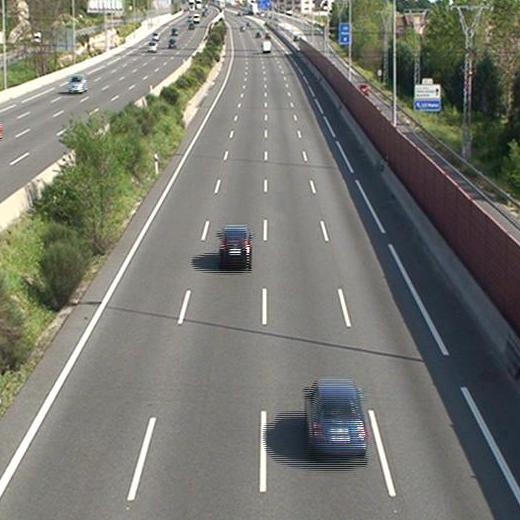car: (307, 382, 367, 451), (219, 227, 251, 266)
van: (262, 40, 271, 52)
